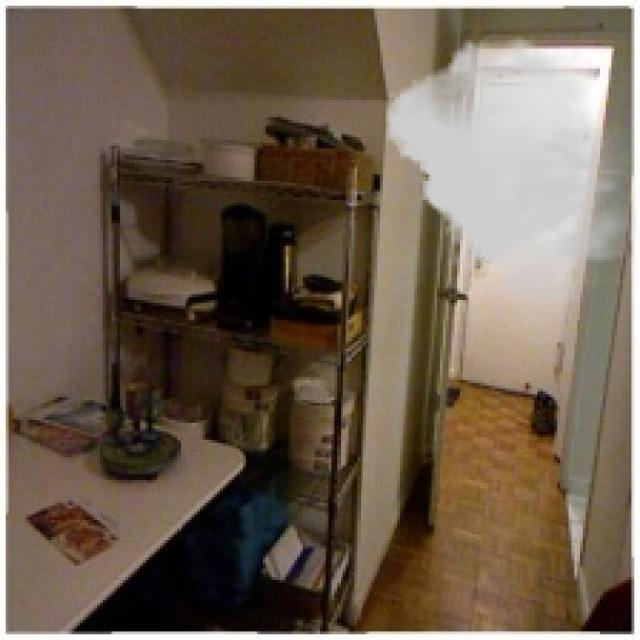Smoke: (386, 37, 638, 303)
